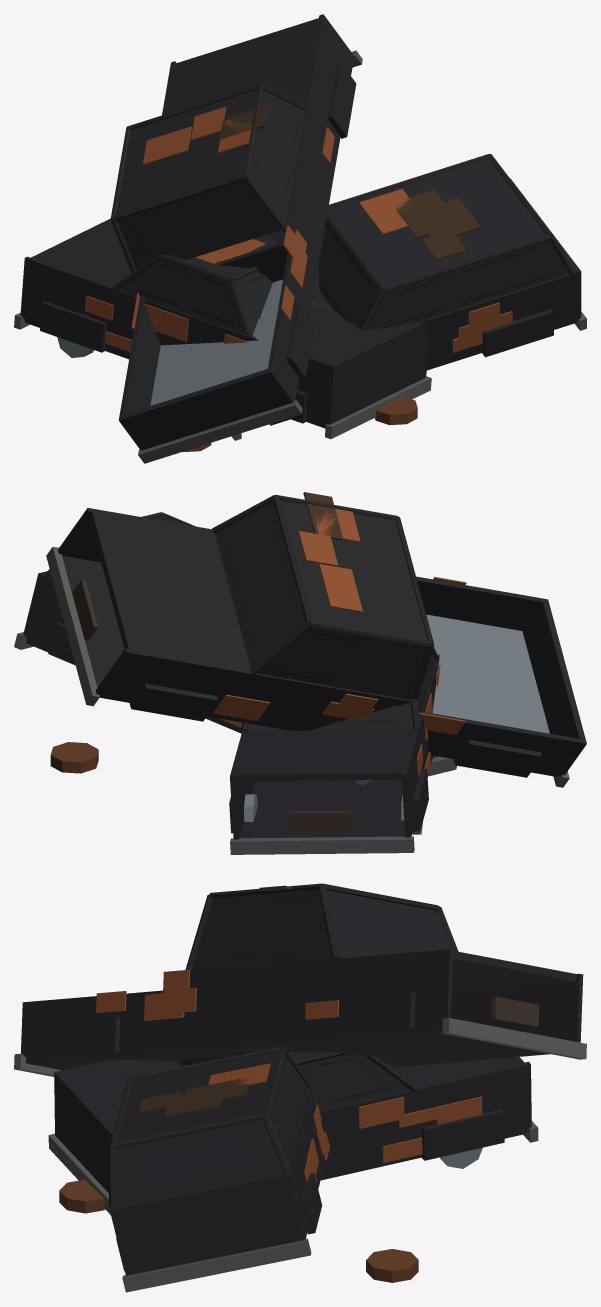
The model's file is car_burnt_pile.glb.
The picture shows the model from 3 angles, top to bottom: view 1: azimuth 30°, elevation 25°; view 2: azimuth 150°, elevation 25°; view 3: azimuth 270°, elevation 25°; orthographic projection. The views are drawn at different scales.
Visible parts, largest first — view 1: car_burnt_pile; view 2: car_burnt_pile; view 3: car_burnt_pile.
Part boxes in pixels (box(x1,y1,x2,y2)): car_burnt_pile: box(14, 14, 586, 463); car_burnt_pile: box(14, 492, 586, 854); car_burnt_pile: box(14, 883, 586, 1292).
Size of what is drawn, in the model's own units: 5.58 by 3.25 by 5.23.
3 materials, 3 textured.
